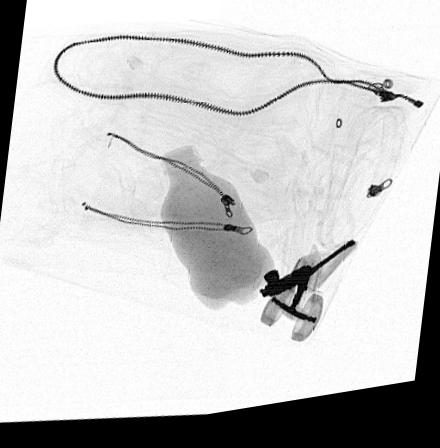Gun: (258, 249, 355, 306)
